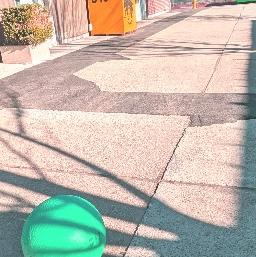algae: (24, 195, 106, 257)
